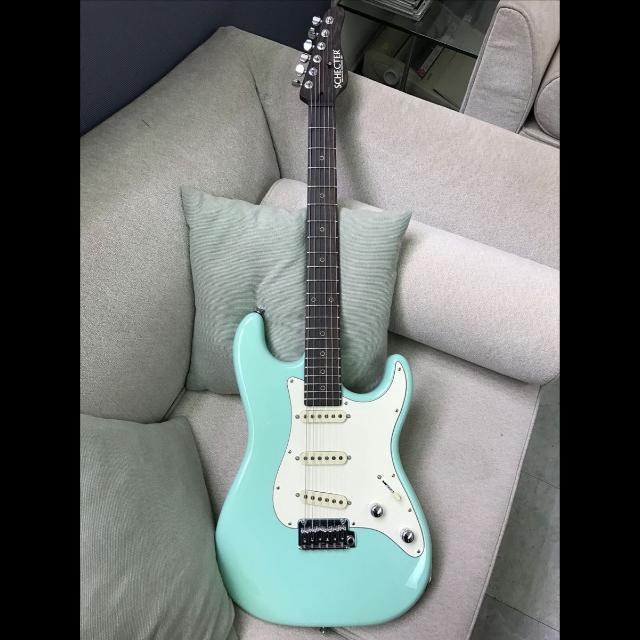Electric-Guitar: (298, 0, 347, 422)
